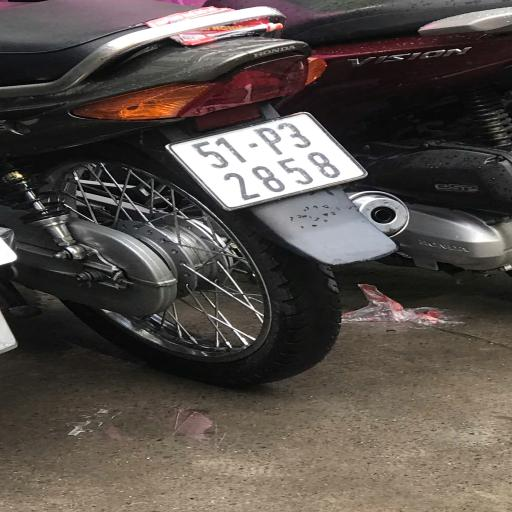1: (220, 133, 256, 169)
2: (222, 168, 268, 209)
3: (278, 120, 321, 156)
5: (192, 137, 238, 178), (278, 154, 320, 192)
8: (304, 145, 350, 182), (256, 162, 296, 198)
P: (251, 125, 285, 161)
